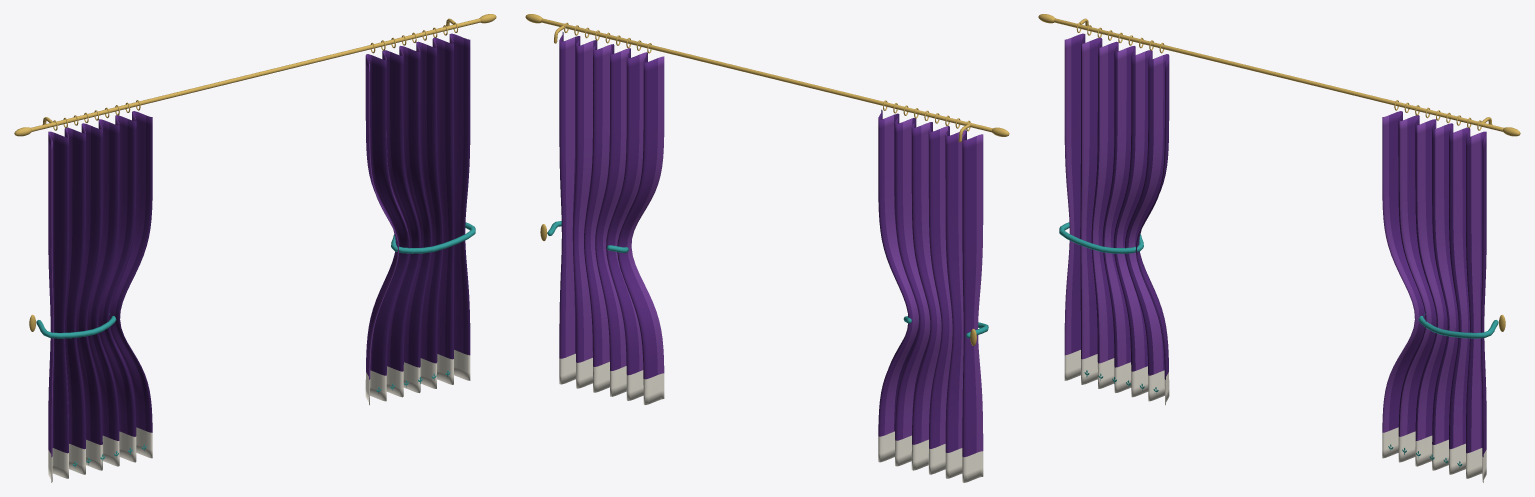
Rendered from purple_curtains.glb.
3 renders of one model, left to right at view 1: azimuth 30°, elevation 25°; view 2: azimuth 150°, elevation 25°; view 3: azimuth 330°, elevation 25°, orthographic.
Parts seen in each view (by area): view 1: Folded_velvet_cloth.001, Folded_velvet_cloth, Continuous_brass_rod, Teal_tieback.001, Teal_tieback; view 2: Folded_velvet_cloth.001, Folded_velvet_cloth, Continuous_brass_rod; view 3: Folded_velvet_cloth, Folded_velvet_cloth.001, Continuous_brass_rod, Teal_tieback, Teal_tieback.001.
Part boxes in pixels (left/top/right/bottom): Folded_velvet_cloth.001: left=365, top=33, right=470, bottom=405; Folded_velvet_cloth: left=48, top=111, right=152, bottom=482; Continuous_brass_rod: left=31, top=18, right=480, bottom=131; Teal_tieback.001: left=391, top=222, right=475, bottom=253; Teal_tieback: left=36, top=313, right=116, bottom=338; Folded_velvet_cloth.001: left=559, top=32, right=664, bottom=404; Folded_velvet_cloth: left=878, top=109, right=983, bottom=482; Continuous_brass_rod: left=541, top=18, right=992, bottom=132; Folded_velvet_cloth: left=1064, top=33, right=1169, bottom=405; Folded_velvet_cloth.001: left=1382, top=111, right=1486, bottom=482; Continuous_brass_rod: left=1054, top=18, right=1503, bottom=131; Teal_tieback: left=1059, top=222, right=1143, bottom=253; Teal_tieback.001: left=1418, top=313, right=1498, bottom=338.
Size of the model in its own units: 3.49 by 2.47 by 0.2554.
